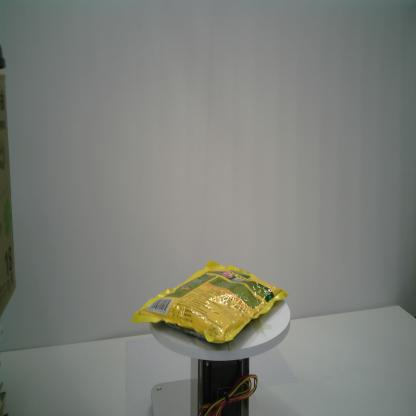Seasoner: (130, 259, 290, 343)
